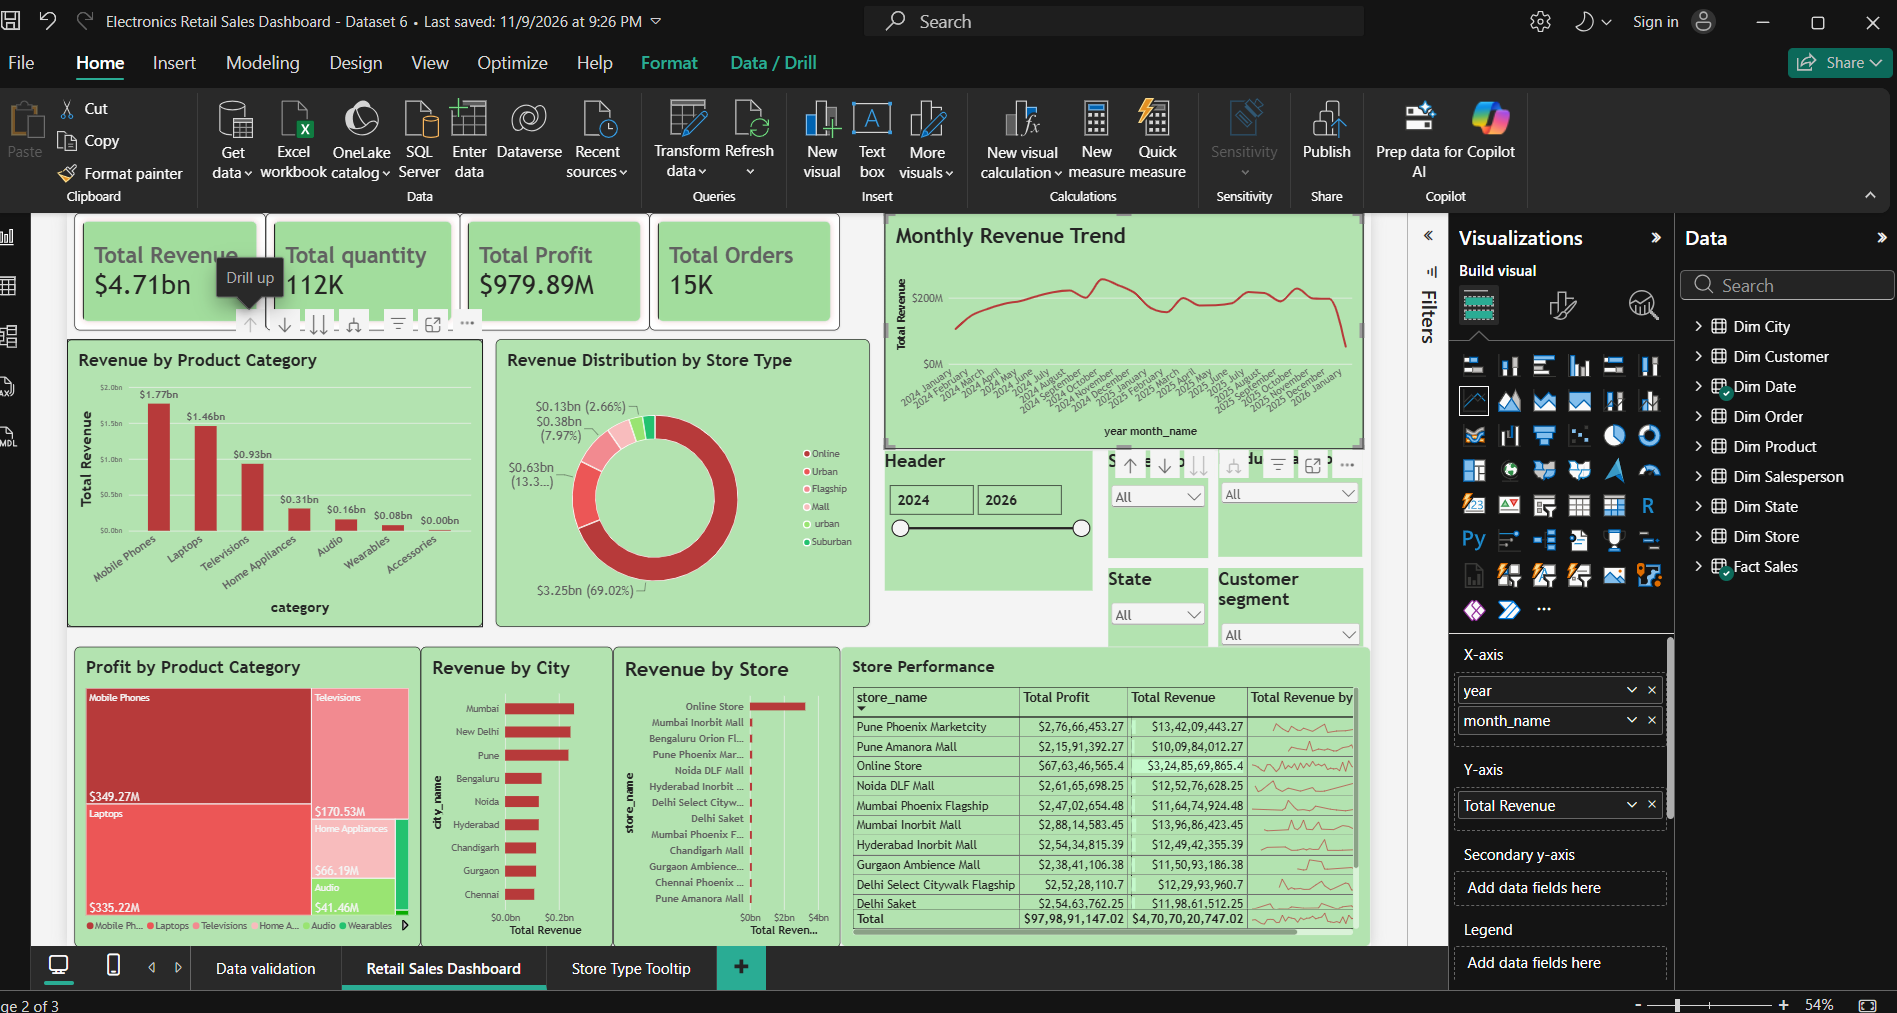

Layout of this report page (visuals, bound fields, positions):
{"tool":"powerbi","page":{"name":"Retail Sales Dashboard","canvas":[1920,1080],"ordinal":1},"visuals":[{"type":"cardVisual","fields":{"Data":["Fact Sales.Total Revenue"]},"box":[10.3,0,282,172.9],"z":0},{"type":"cardVisual","fields":{"Data":["Fact Sales.Total Profit"]},"box":[578.4,0,279.9,172.9],"z":1000},{"type":"cardVisual","fields":{"Data":["Fact Sales.Total Orders"]},"box":[858.3,0,279.9,172.9],"z":2000},{"type":"cardVisual","fields":{"Data":["Fact Sales.Total quantity"]},"box":[292.3,0,286.1,172.9],"z":3000},{"type":"clusteredColumnChart","title":"Revenue by Product Category","fields":{"Category":["Dim Product.category","Dim Product.subcategory"],"Y":["Fact Sales.Total Revenue"]},"box":[0,186.6,612,423.6],"z":4000},{"type":"treemap","title":"Profit by Product Category","fields":{"Group":["Dim Product.category"],"Values":["Fact Sales.Total Profit"]},"box":[11.2,638.2,509.4,442.2],"z":5000},{"type":"clusteredBarChart","title":"Revenue by Store","fields":{"Category":["Dim Store.store_name"],"Y":["Fact Sales.Total Revenue"]},"box":[804.2,638.2,334.8,443.4],"z":6000},{"type":"lineChart","title":" Monthly Revenue Trend","fields":{"Category":["Dim Date.year","Dim Date.month_name"],"Y":["Fact Sales.Total Revenue"]},"box":[1203.4,0,705.8,347.5],"z":7000},{"type":"donutChart","title":"Revenue Distribution by Store Type","fields":{"Category":["Dim Store.store_type"],"Y":["Fact Sales.Total Revenue"]},"box":[630.7,186.6,550.5,423.6],"z":8000},{"type":"clusteredBarChart","title":"Revenue by City","fields":{"Category":["Dim City.city_name"],"Y":["Fact Sales.Total Revenue"]},"box":[520.6,638.2,282.3,443.4],"z":9000},{"type":"slicer","title":"Product category","fields":{"Values":["Dim Product.category"]},"box":[1695.1,347.9,211.7,158.3],"z":10000},{"type":"slicer","title":"Store type","fields":{"Values":["Dim Store.store_type"]},"box":[1533.1,349.7,147.2,158.3],"z":11000},{"type":"slicer","title":"Customer segment","fields":{"Values":["Dim Customer.customer_segment"]},"box":[1695.1,522.7,213.5,116],"z":12000},{"type":"slicer","title":"State","fields":{"Values":["Dim State.state_name"]},"box":[1533.1,522.7,147.2,116],"z":13000},{"type":"slicer","title":"Header","fields":{"Values":["Dim Date.year"]},"box":[1203.5,348.9,306,206],"z":14000},{"type":"tableEx","title":"Store Performance","fields":{"Values":["Dim Store.store_name","Fact Sales.Total Profit","Fact Sales.Total Revenue","SparklineData(Fact Sales.Total Revenue_[Dim Date.full_date])"]},"box":[1139.3,638.7,780.4,441.7],"z":14001}]}

Visuals, with their boxes on the page's 1920x1080 design canvas (x1, y1, x2, y2). These are canvas units, not pixel positions in the 1897x1013 screenshot, which may show the page scaled, cropped or inside an application window:
cardVisual - Fact Sales.Total Revenue: 10/0/292/173
cardVisual - Fact Sales.Total Profit: 578/0/858/173
cardVisual - Fact Sales.Total Orders: 858/0/1138/173
cardVisual - Fact Sales.Total quantity: 292/0/578/173
"Revenue by Product Category" clusteredColumnChart: 0/187/612/610
"Profit by Product Category" treemap: 11/638/521/1080
"Revenue by Store" clusteredBarChart: 804/638/1139/1082
" Monthly Revenue Trend" lineChart: 1203/0/1909/348
"Revenue Distribution by Store Type" donutChart: 631/187/1181/610
"Revenue by City" clusteredBarChart: 521/638/803/1082
"Product category" slicer: 1695/348/1907/506
"Store type" slicer: 1533/350/1680/508
"Customer segment" slicer: 1695/523/1909/639
"State" slicer: 1533/523/1680/639
"Header" slicer: 1204/349/1510/555
"Store Performance" tableEx: 1139/639/1920/1080
